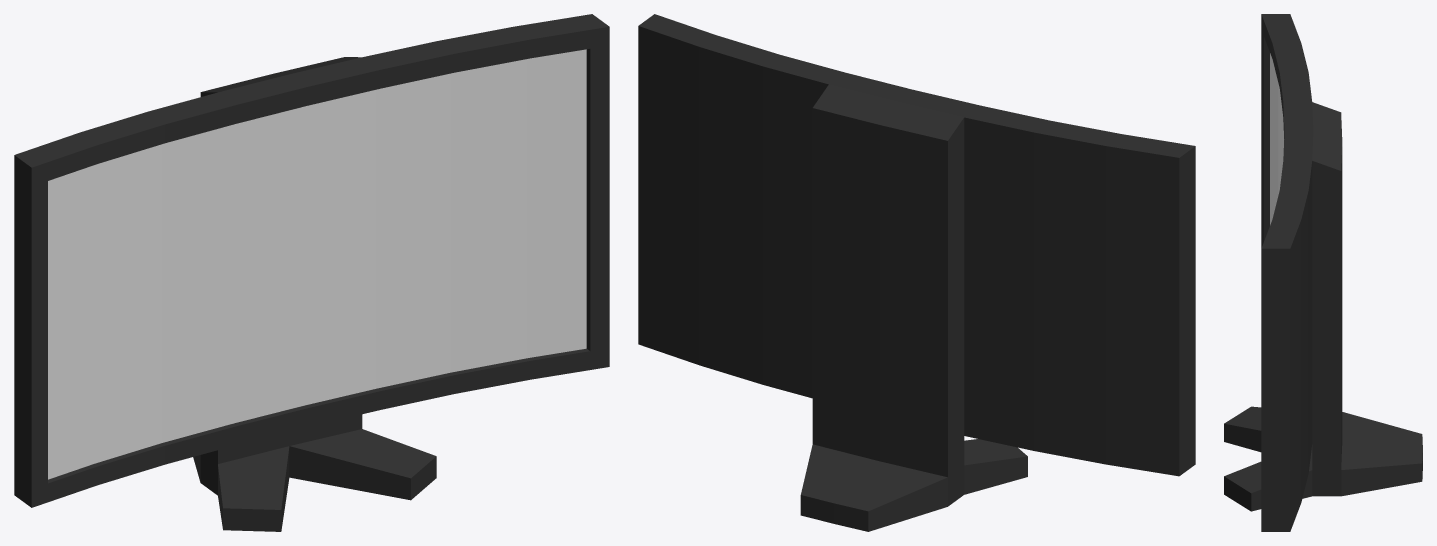
Rendered from Monitor.fbx.
3 views of the same model, side by side, from view 1: azimuth 30°, elevation 25°; view 2: azimuth 150°, elevation 25°; view 3: azimuth 270°, elevation 25° (orthographic). The views are drawn at different scales.
Visible parts, largest first — view 1: Monitor; view 2: Monitor; view 3: Monitor.
Part boxes in pixels (x1,y1,x2,y2): Monitor: (14, 14, 609, 531); Monitor: (638, 14, 1195, 531); Monitor: (1224, 14, 1422, 531).
Bounding box in the file's own units: 96 × 64 × 34.38.
